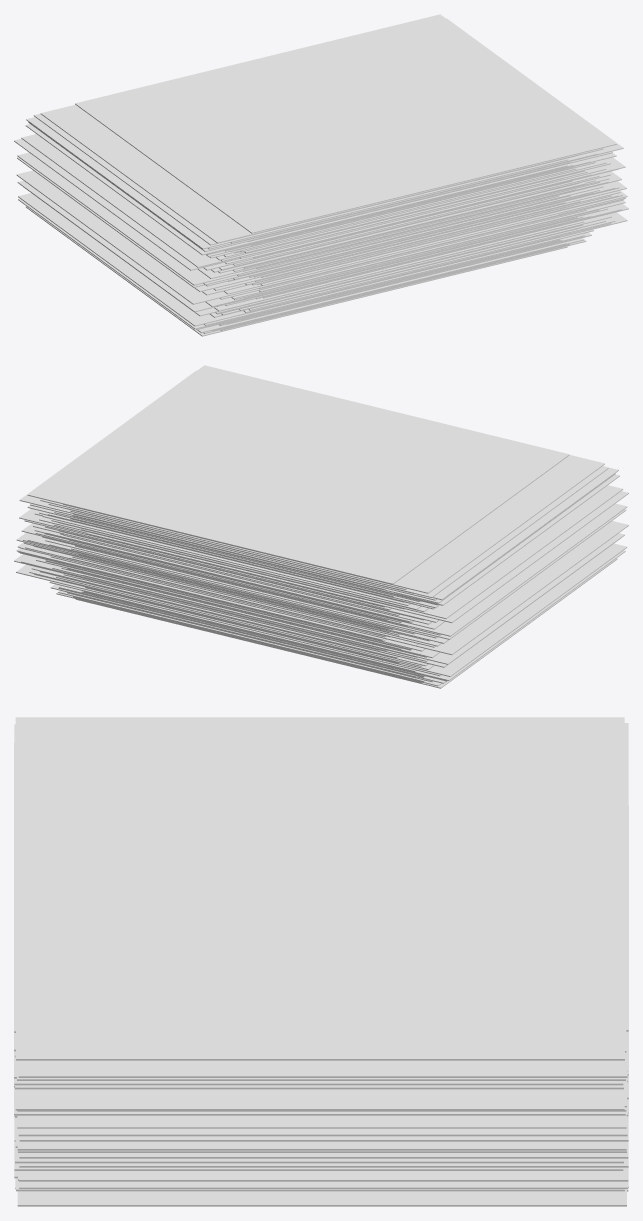
Rendered from SM_Env_Contracts.fbx.
The picture shows the model from 3 angles, top to bottom: view 1: azimuth 30°, elevation 25°; view 2: azimuth 150°, elevation 25°; view 3: azimuth 270°, elevation 25°; orthographic projection. The views are drawn at different scales.
Visible parts, largest first — view 1: Contracts; view 2: Contracts; view 3: Contracts.
Part boxes in pixels (x1,y1,x2,y2): Contracts: (14, 14, 628, 336); Contracts: (14, 365, 628, 688); Contracts: (14, 717, 628, 1206).
Bounding box in the file's own units: 0.2975 × 0.06 × 0.21.
